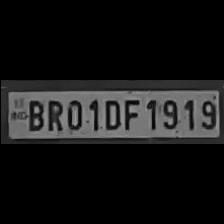0: (62, 97, 82, 130)
1: (179, 96, 197, 130), (84, 98, 100, 132), (140, 97, 156, 131)
9: (157, 96, 179, 130), (196, 96, 218, 130)
B: (22, 97, 44, 130)
D: (100, 96, 119, 130)
F: (120, 97, 140, 131)
R: (44, 96, 62, 132)
